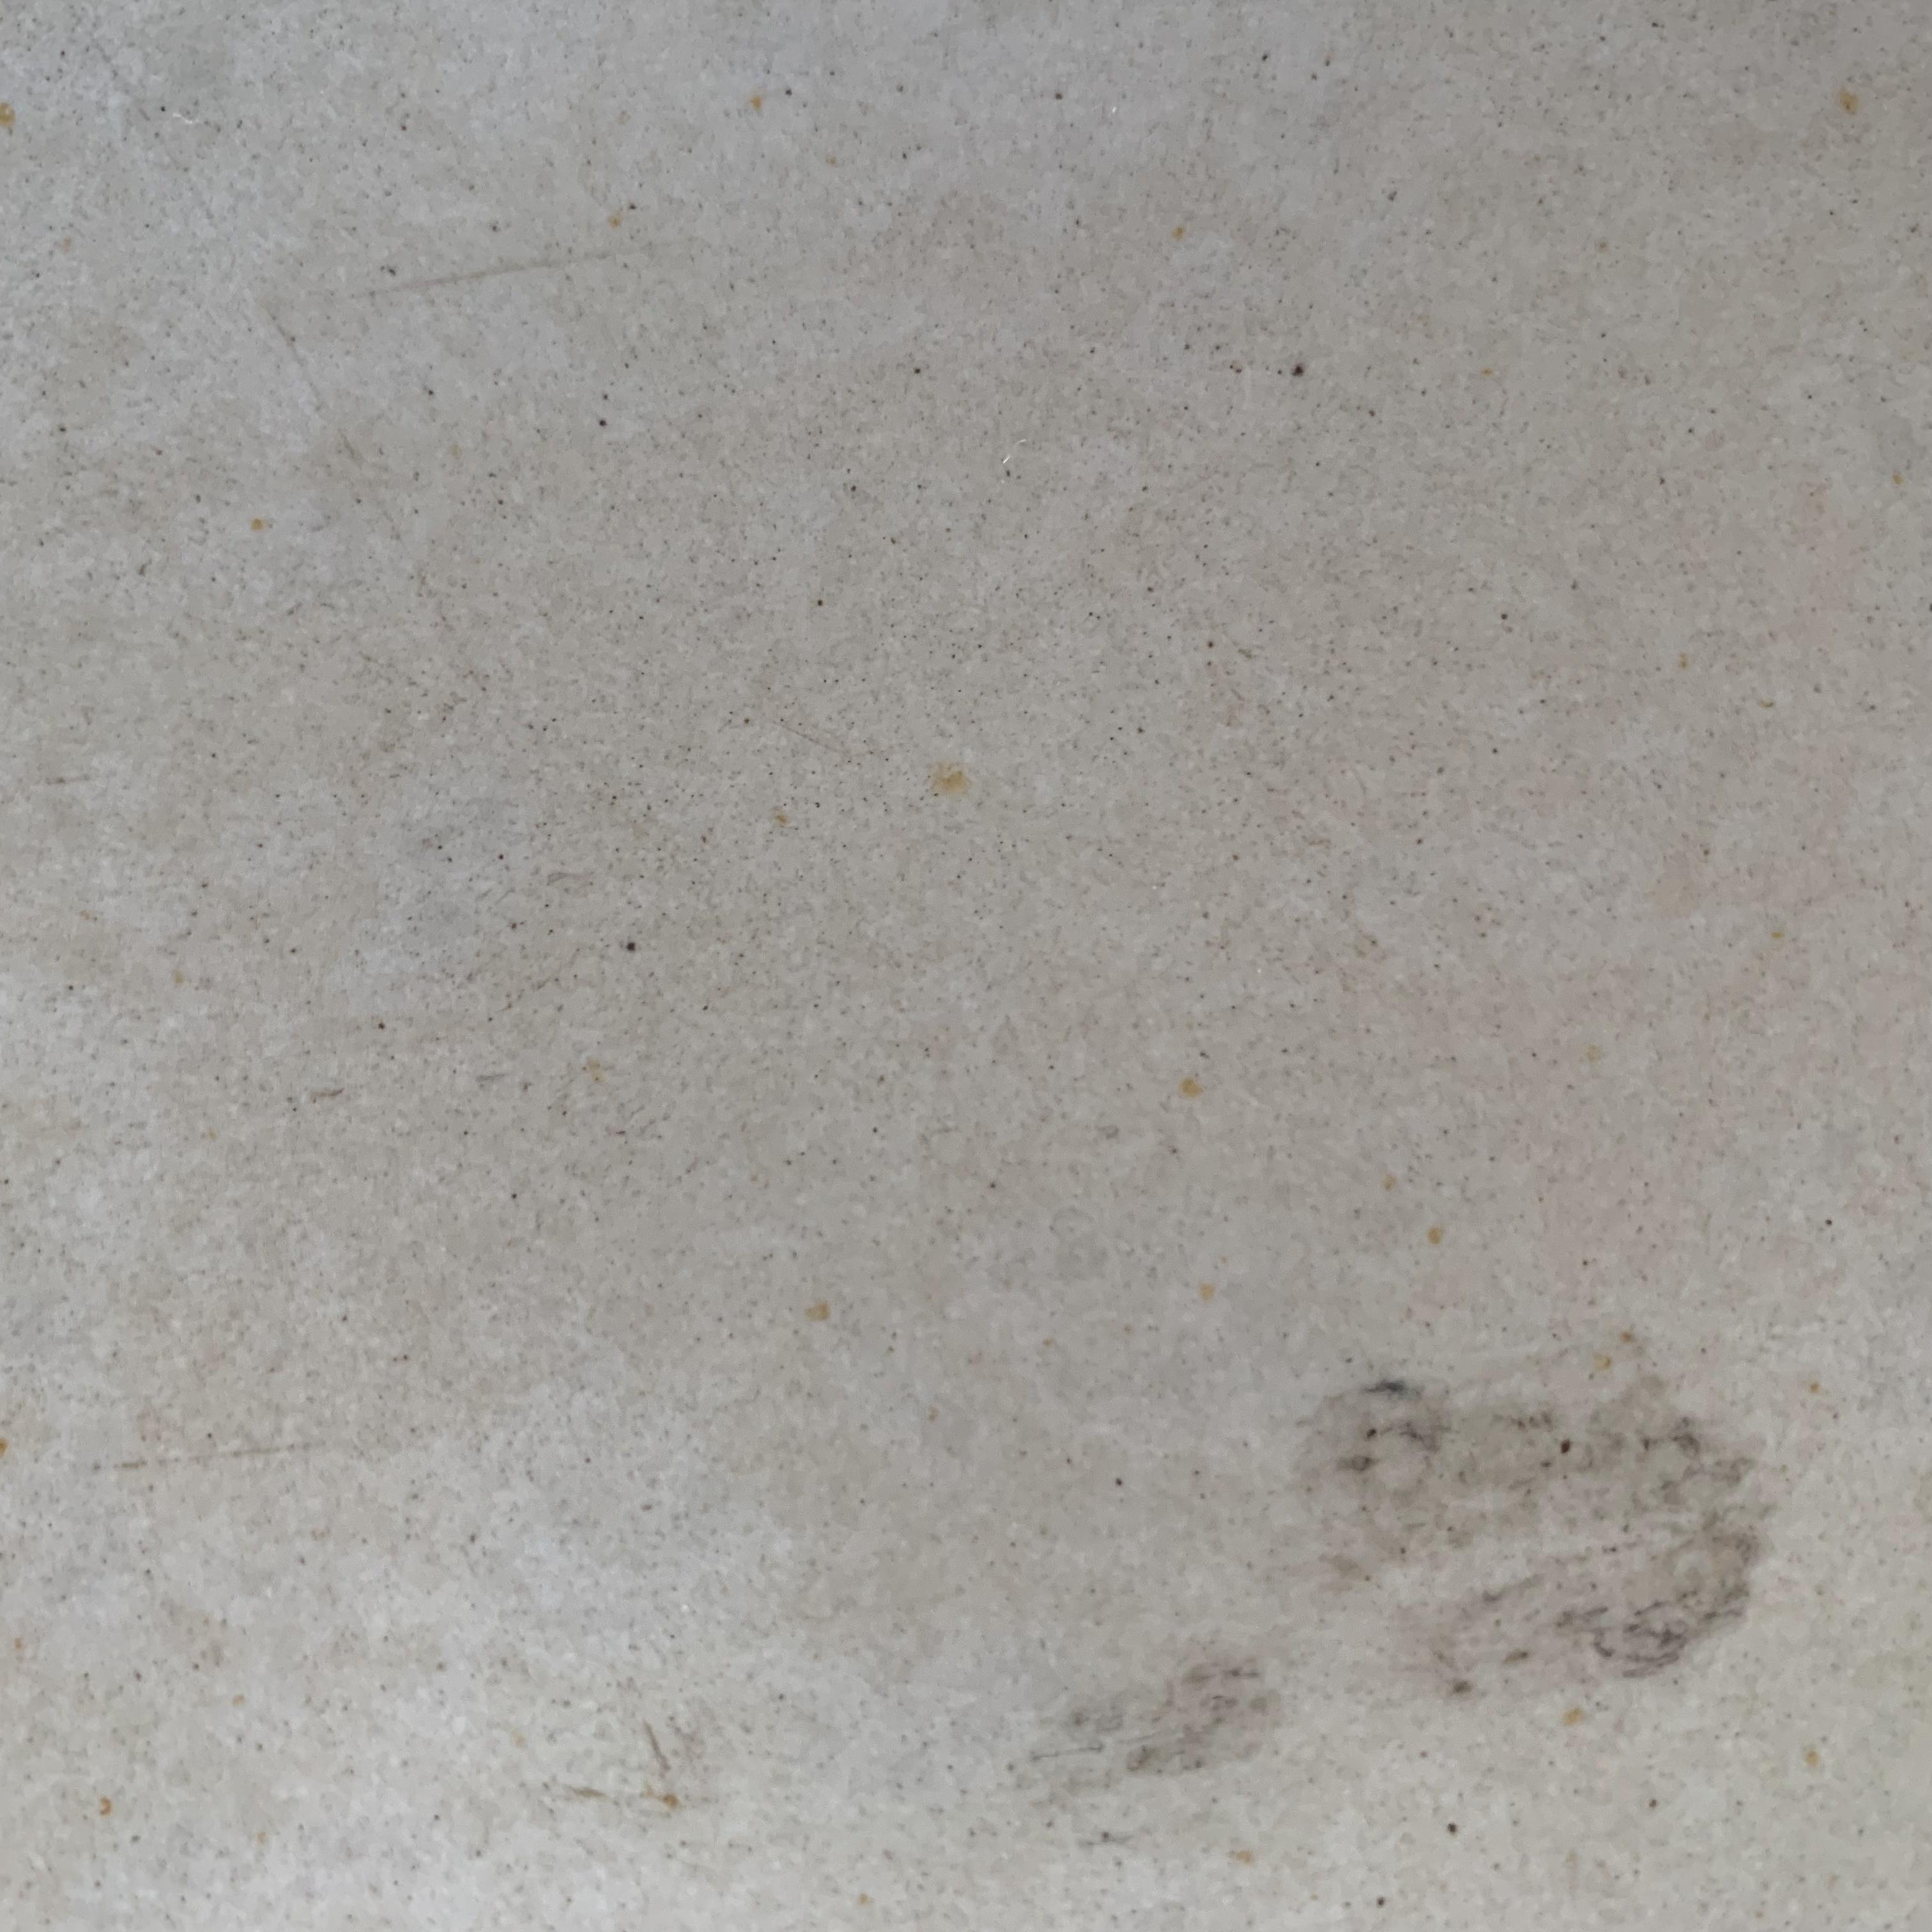grey spot: (1293, 1323, 1785, 1697), (1031, 1652, 1290, 1776)
